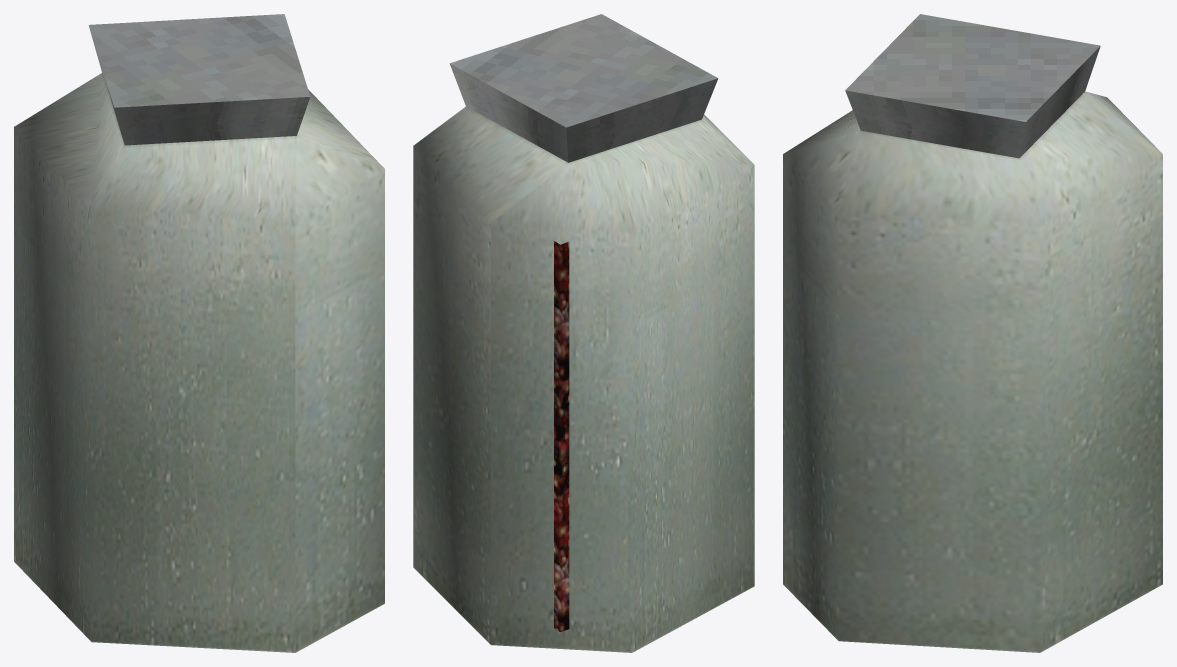
Rendered from edb_con_tato_jar_berries_s01_l2.fbx.
3 renders of one model, left to right at view 1: azimuth 30°, elevation 25°; view 2: azimuth 150°, elevation 25°; view 3: azimuth 270°, elevation 25°, orthographic. The views are drawn at different scales.
Parts seen in each view (by area): view 1: mesh_node; view 2: mesh_node; view 3: mesh_node.
Boxes of the visible parts, bbox=[...] form: mesh_node: bbox=[14, 14, 384, 652]; mesh_node: bbox=[413, 14, 754, 652]; mesh_node: bbox=[783, 14, 1162, 652].
Size of the model in its own units: 0.1707 by 0.3 by 0.2.
